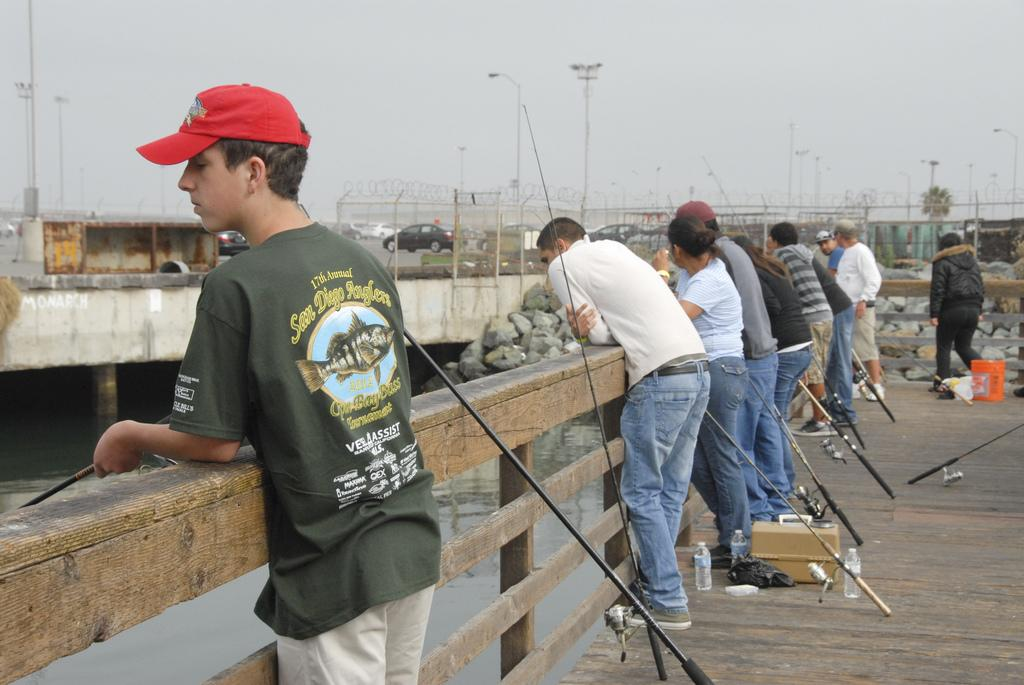Hat: (137, 83, 309, 179), (676, 199, 714, 224)
